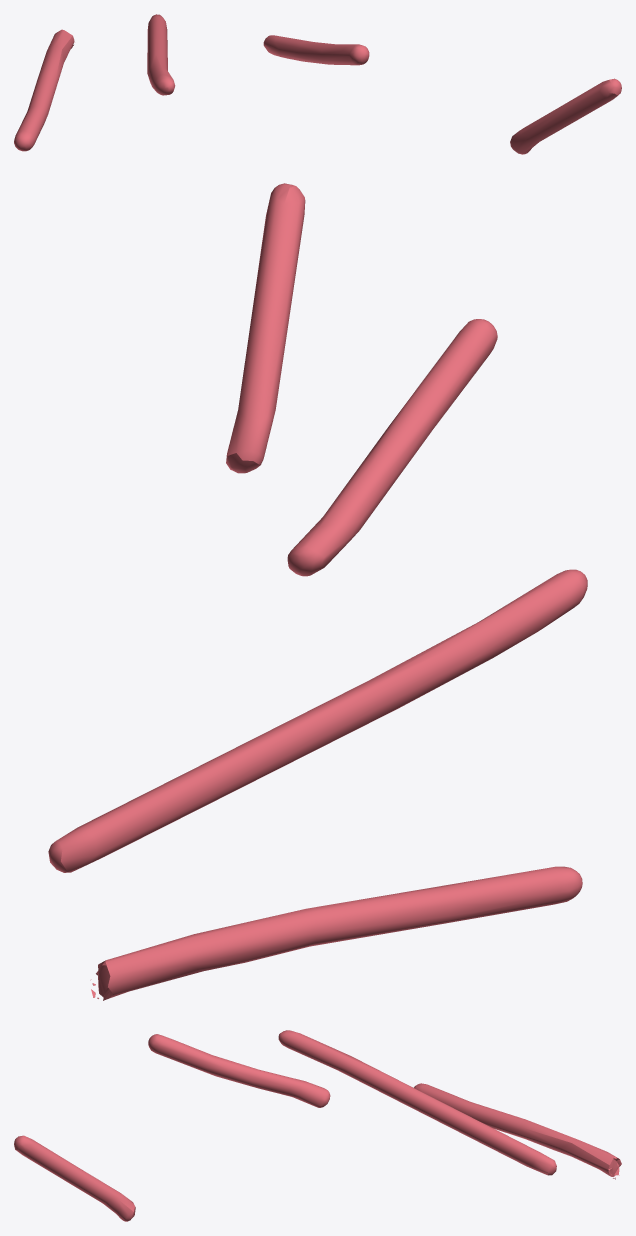
Rendered from fma71564_fj2204.glb.
The picture shows the model from 3 angles, top to bottom: view 1: azimuth 30°, elevation 25°; view 2: azimuth 150°, elevation 25°; view 3: azimuth 270°, elevation 25°; orthographic projection. The views are drawn at different scales.
Visible parts, largest first — view 1: FMA71564_FJ2204; view 2: FMA71564_FJ2204; view 3: FMA71564_FJ2204.
Part boxes in pixels (bbox=[...]): FMA71564_FJ2204: bbox=[14, 14, 621, 154]; FMA71564_FJ2204: bbox=[48, 183, 587, 1000]; FMA71564_FJ2204: bbox=[14, 1030, 621, 1221].
Bounding box in the file's own units: 0.0315 × 0.0138 × 0.0469.
